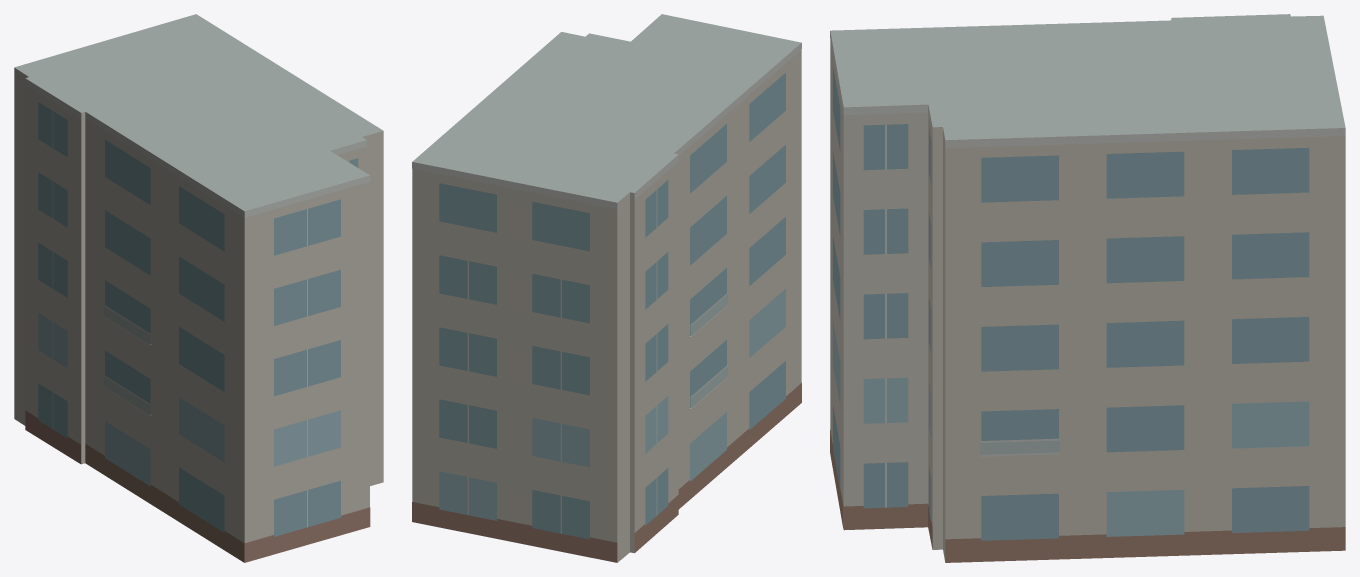
The model's file is survey-upis-32653982.glb.
3 views of the same model, side by side, from view 1: azimuth 30°, elevation 25°; view 2: azimuth 150°, elevation 25°; view 3: azimuth 270°, elevation 25° (orthographic). The views are drawn at different scales.
Visible parts, largest first — view 1: survey-upis-32653982.tmp; view 2: survey-upis-32653982.tmp; view 3: survey-upis-32653982.tmp.
Part boxes in pixels (x1=…): survey-upis-32653982.tmp: x1=14, y1=14, x2=383, y2=562; survey-upis-32653982.tmp: x1=412, y1=14, x2=801, y2=562; survey-upis-32653982.tmp: x1=830, y1=14, x2=1345, y2=562.
Size of the model in its own units: 8.43 by 13.15 by 14.54.
